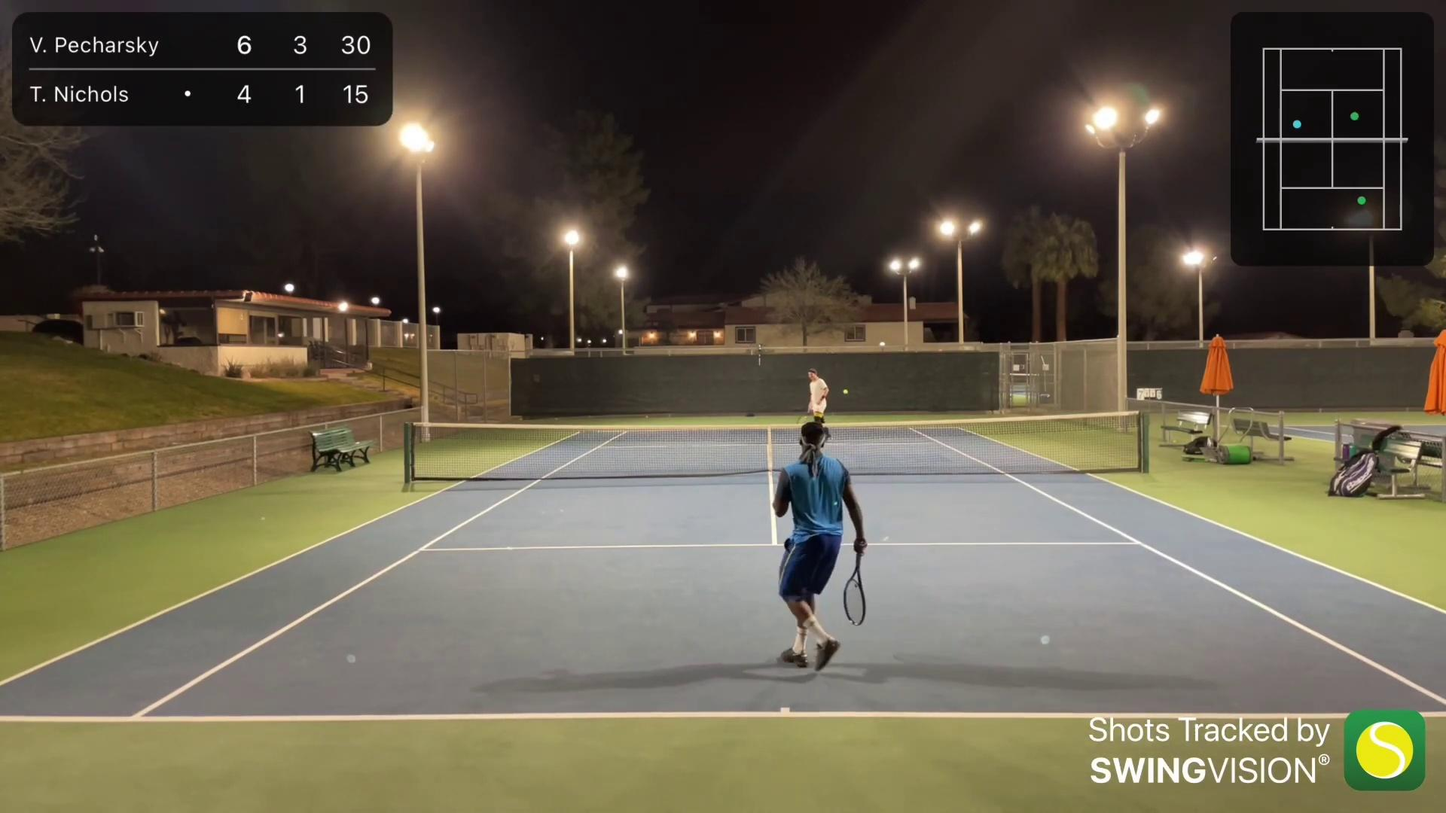ball: (843, 388, 848, 395)
